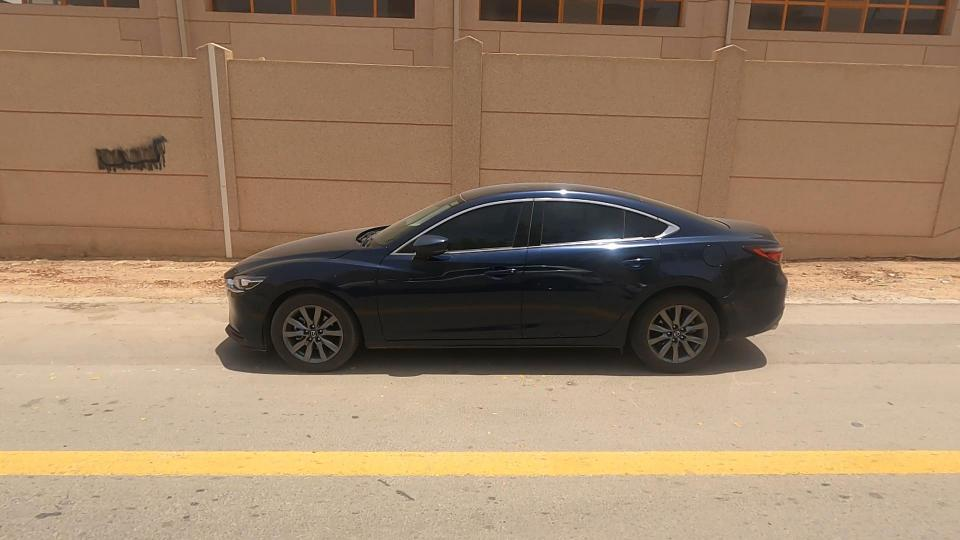GRAFFITI: (31, 101, 218, 213)
